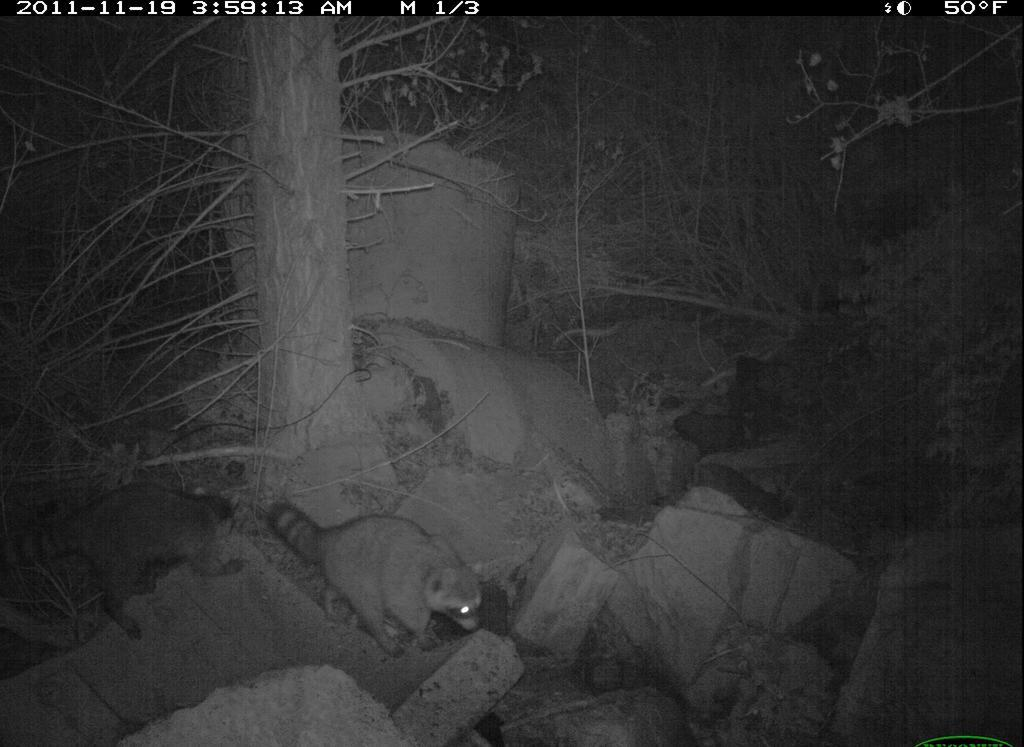raccoon: (1, 477, 250, 645), (263, 493, 489, 658)
